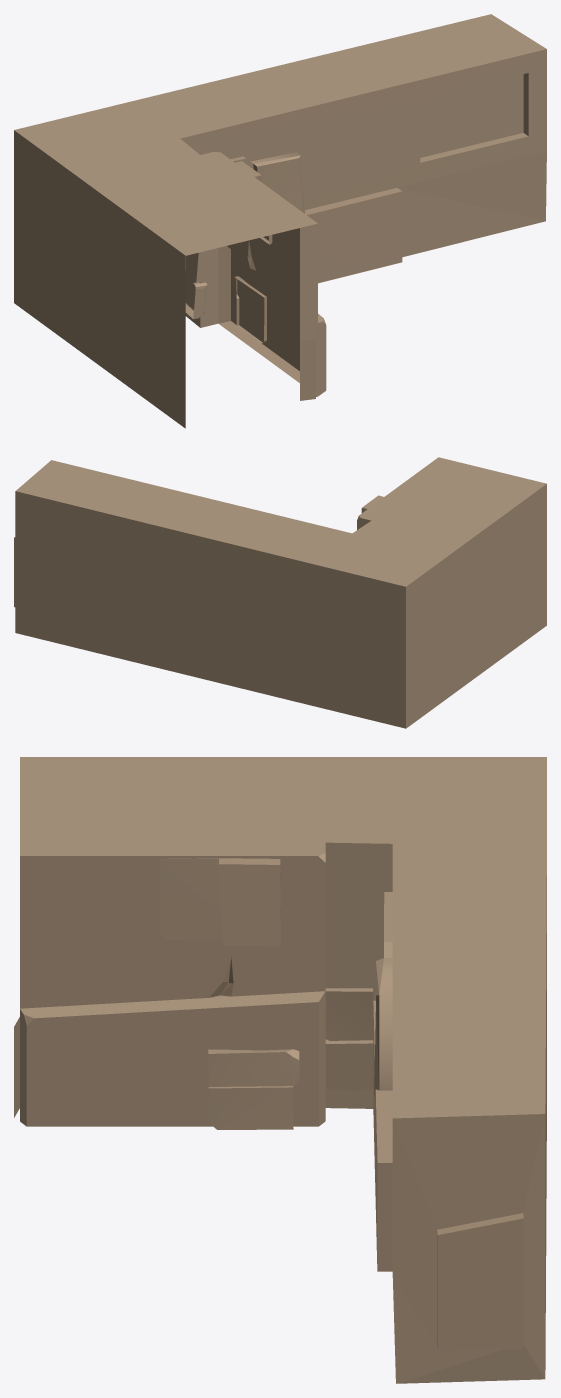
File: ston wall3.FBX
The picture shows the model from 3 angles, top to bottom: view 1: azimuth 30°, elevation 25°; view 2: azimuth 150°, elevation 25°; view 3: azimuth 270°, elevation 25°; orthographic projection. The views are drawn at different scales.
Visible parts, largest first — view 1: wall; view 2: wall; view 3: wall.
Boxes of the visible parts, x1,y1,x2,y2 form: wall: (14, 14, 546, 428); wall: (14, 457, 546, 728); wall: (14, 757, 546, 1383).
Size of the model in its own units: 40.05 by 13.56 by 24.68.
